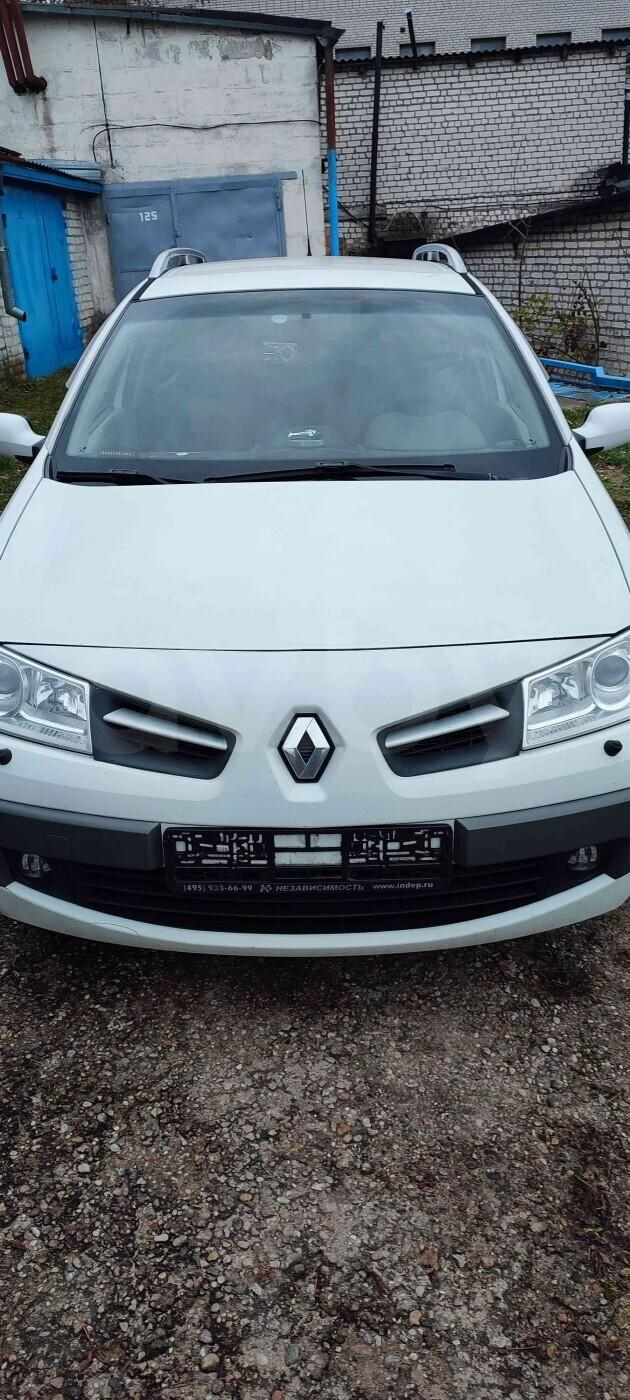Megane_2005-2009: (0, 246, 630, 994)
